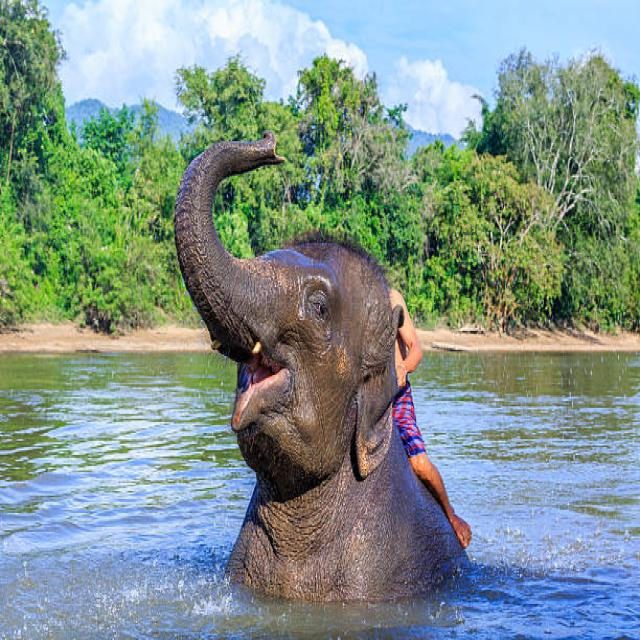Elephant: (168, 126, 486, 606)
